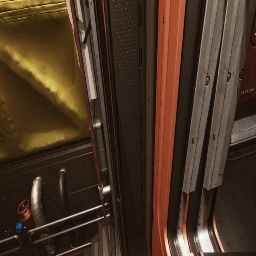NitrogenTank ,: (18, 199, 47, 256)
SafetySwitchPanel ,: (66, 0, 100, 102)
